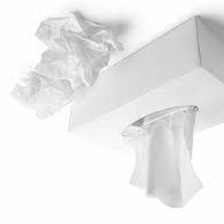book: (64, 12, 224, 160)
tissue: (6, 7, 127, 125), (117, 102, 208, 211)
